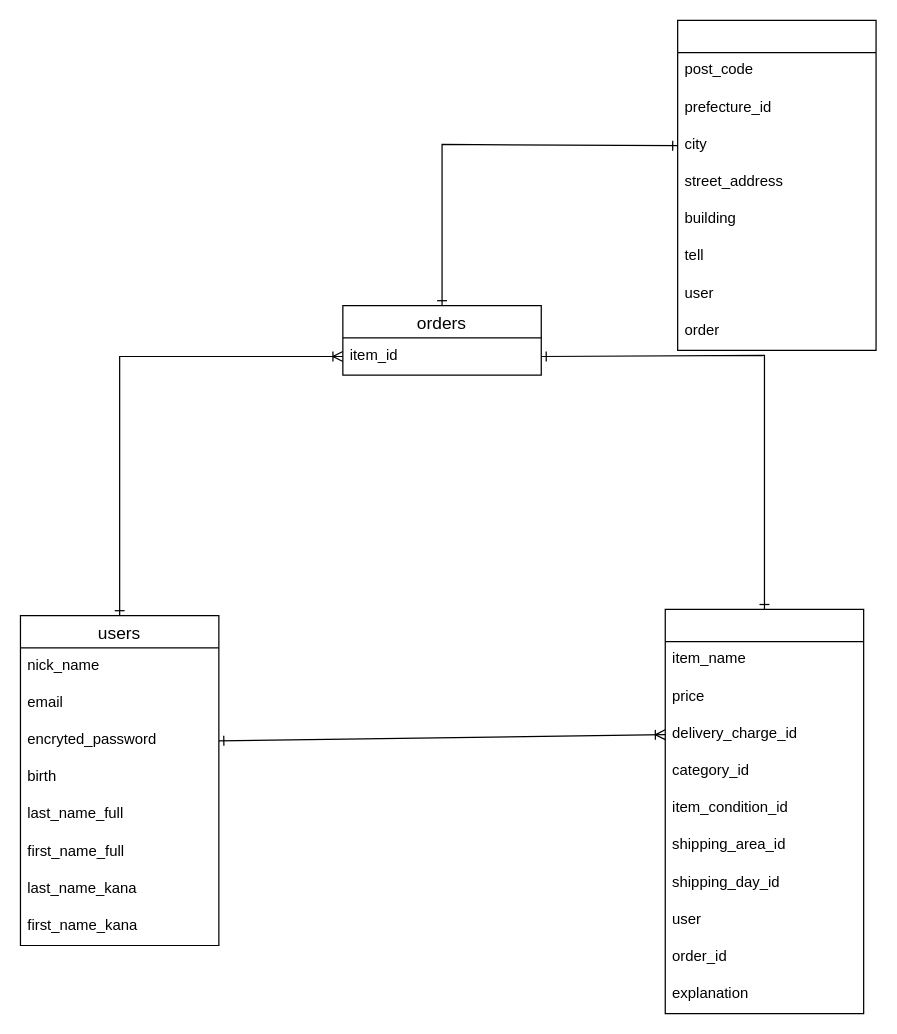
This 897x1034 diagram has some shape labels left out. The box of each missing label's shape, as (x1, y1, x2, y2) in pixels:
items: (664, 608, 864, 1014)
shipping-address: (676, 19, 876, 350)
